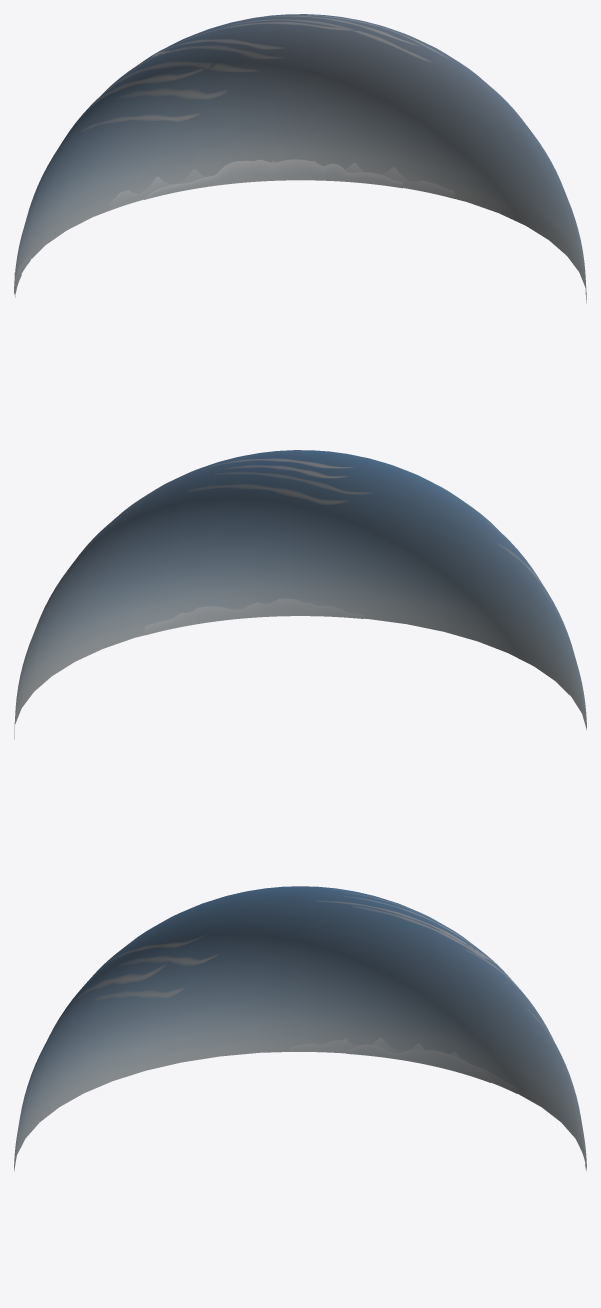
File: escudo.glb
The picture shows the model from 3 angles, top to bottom: view 1: azimuth 30°, elevation 25°; view 2: azimuth 150°, elevation 25°; view 3: azimuth 270°, elevation 25°; orthographic projection.
Parts seen in each view (by area): view 1: sky_clear_day_01; view 2: sky_clear_day_01; view 3: sky_clear_day_01.
Part boxes in pixels (x1,y1,x2,y2): sky_clear_day_01: (14, 14, 586, 303); sky_clear_day_01: (14, 450, 586, 739); sky_clear_day_01: (14, 886, 586, 1171).
Bounding box in the file's own units: 5.2 × 2.6 × 5.2.
